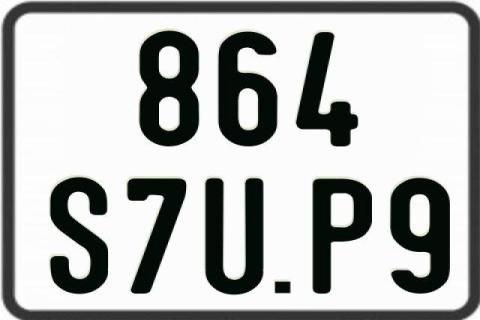0: (127, 178, 191, 298), (293, 31, 357, 148), (138, 29, 198, 149), (387, 177, 449, 293), (215, 29, 274, 147)
P: (313, 176, 372, 296)
S: (49, 176, 107, 294)
U: (204, 177, 262, 296)
